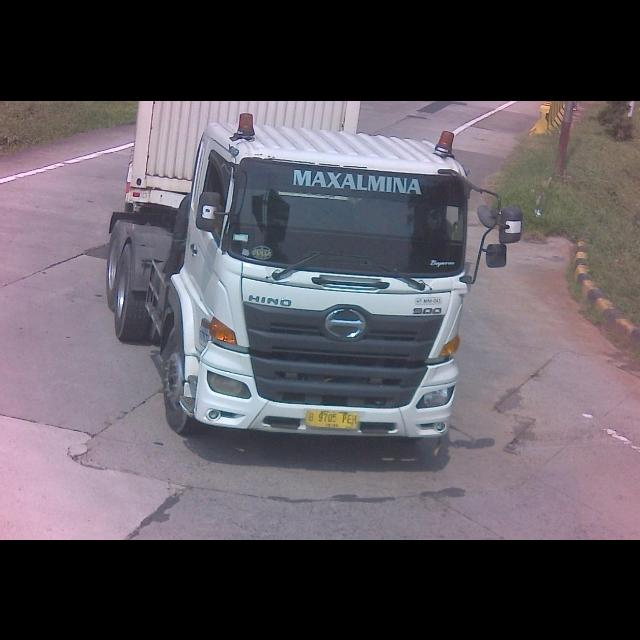plate: (305, 406, 361, 430)
